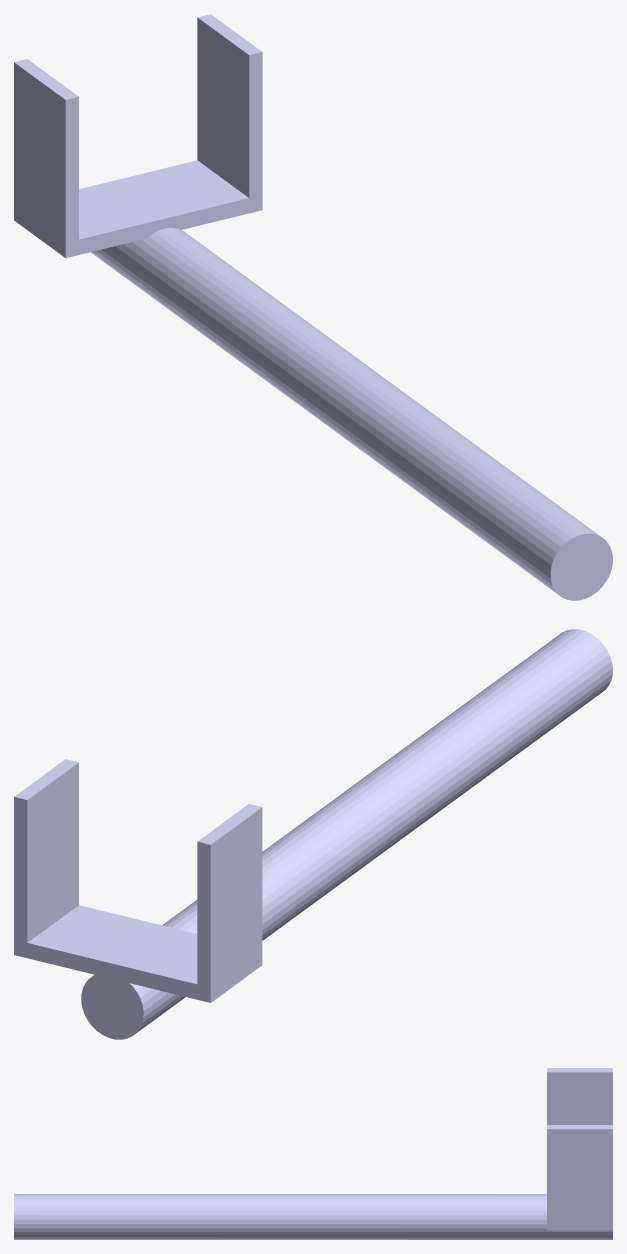
The model's file is dbAlpha_URDF_Leg_Thorax_Left_Link3__120__.dae.
The picture shows the model from 3 angles, top to bottom: view 1: azimuth 30°, elevation 25°; view 2: azimuth 150°, elevation 25°; view 3: azimuth 270°, elevation 25°; orthographic projection. The views are drawn at different scales.
Visible parts, largest first — view 1: Node_0x7f7afd0ebd60 (×4); view 2: Node_0x7f7afd0ebd60 (×4); view 3: Node_0x7f7afd0ebd60 (×4).
Boxes of the visible parts, x1,y1,x2,y2 form: Node_0x7f7afd0ebd60 (×4): [14, 14, 612, 600]; Node_0x7f7afd0ebd60 (×4): [14, 629, 612, 1039]; Node_0x7f7afd0ebd60 (×4): [14, 1068, 612, 1239].
Bounding box in the file's own units: 0.044 × 0.0466 × 0.1817.
